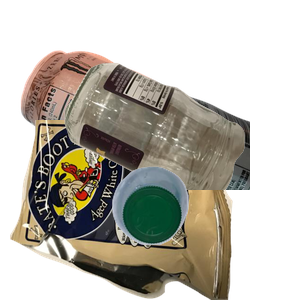glass: (62, 60, 300, 240)
metal: (18, 48, 258, 228)
plastic: (110, 164, 300, 300)
trash: (10, 120, 235, 300)
